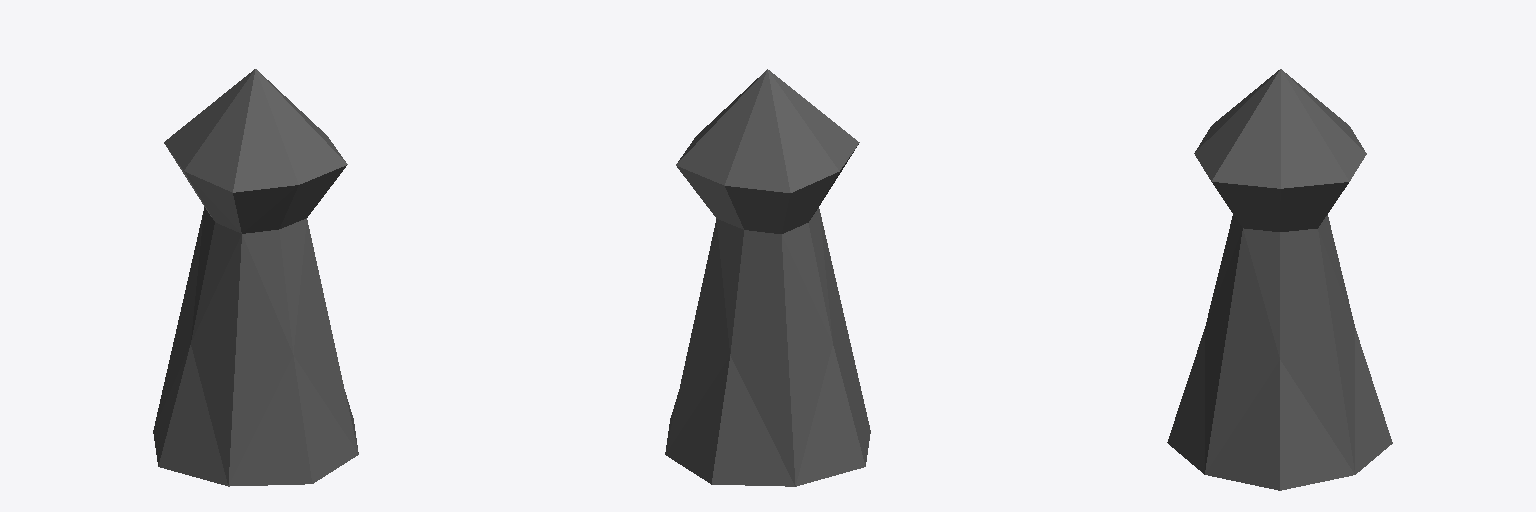
The model's file is tower.obj.
3 views of the same model, side by side, from view 1: azimuth 30°, elevation 25°; view 2: azimuth 150°, elevation 25°; view 3: azimuth 270°, elevation 25° (orthographic).
Parts seen in each view (by area): view 1: Mesh_Mesh_Cube.001; view 2: Mesh_Mesh_Cube.001; view 3: Mesh_Mesh_Cube.001.
Boxes of the visible parts, <box> form: Mesh_Mesh_Cube.001: <box>153,69,358,486</box>; Mesh_Mesh_Cube.001: <box>665,69,870,486</box>; Mesh_Mesh_Cube.001: <box>1167,69,1392,490</box>.
Size of the model in its own units: 12.38 by 22.67 by 12.38.